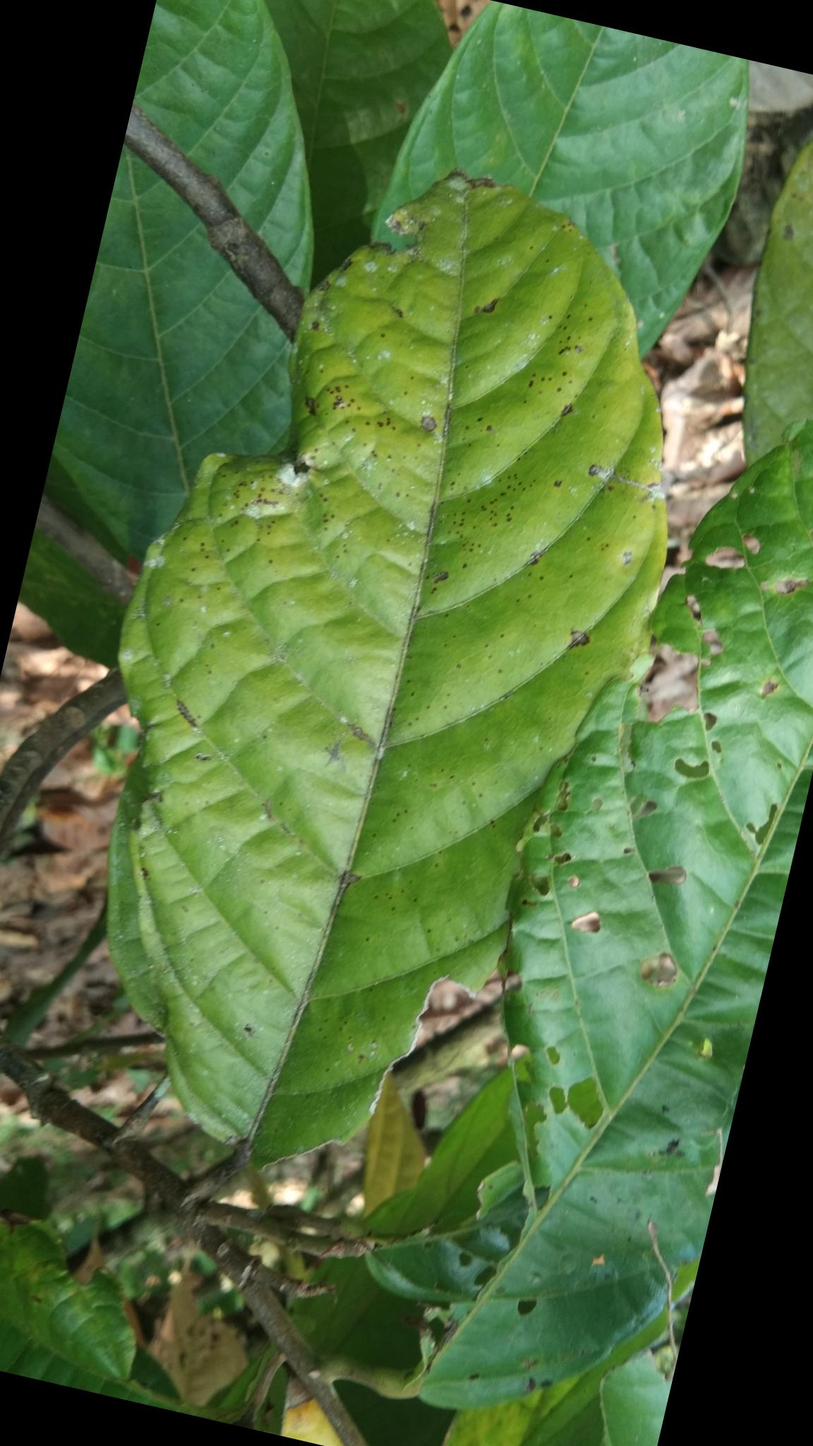Fosforo: (122, 162, 672, 1153)
